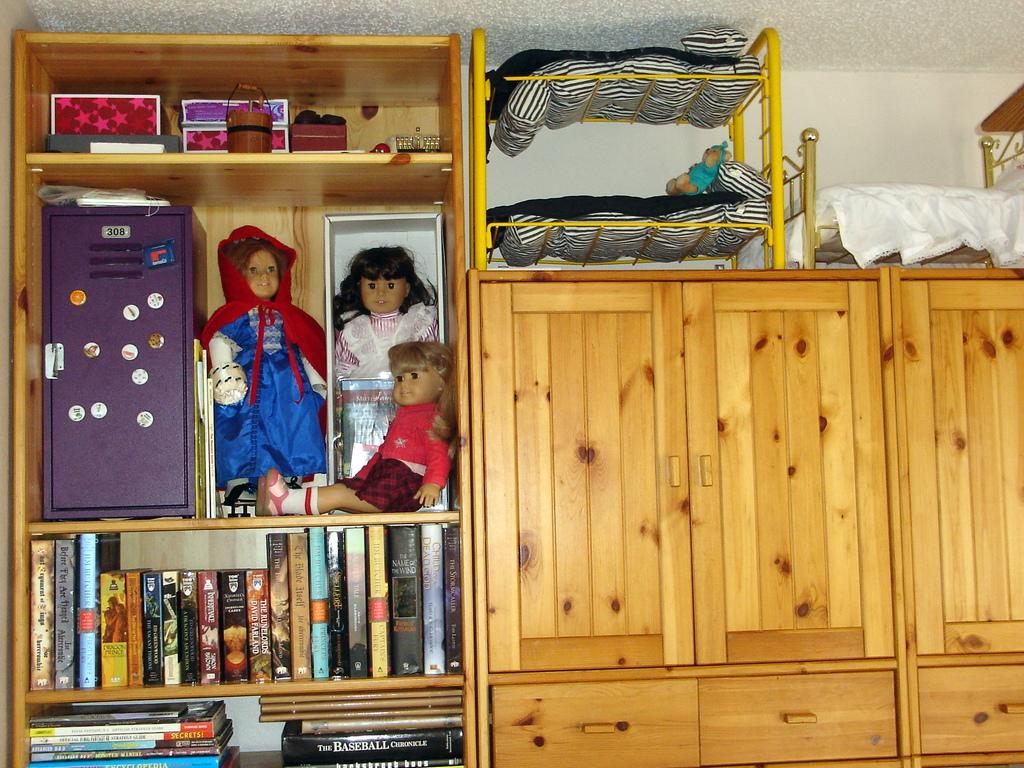cabinet_door: (484, 282, 684, 662), (690, 284, 884, 648), (900, 283, 1024, 644), (711, 672, 895, 763), (489, 688, 691, 768), (924, 670, 1024, 749)
handle: (995, 690, 1024, 726), (780, 708, 820, 728), (696, 450, 714, 490), (669, 451, 683, 495), (578, 721, 616, 737)
